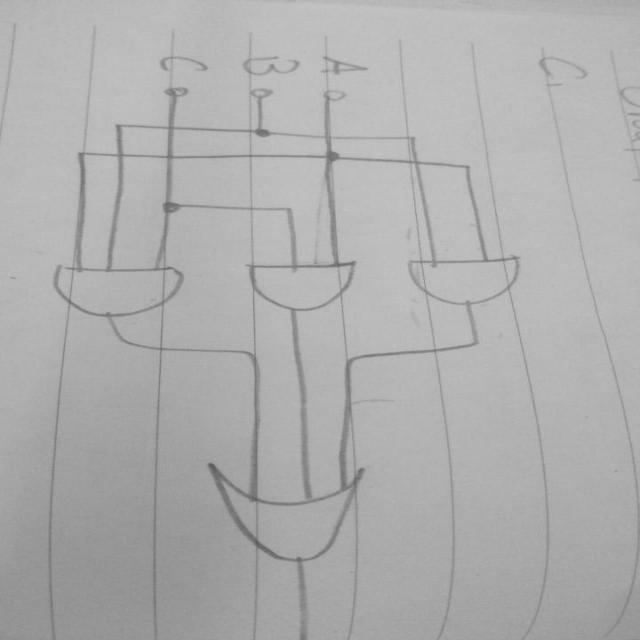AND: (42, 252, 202, 326), (236, 251, 373, 318), (400, 248, 542, 310)
OR: (191, 448, 403, 574)
